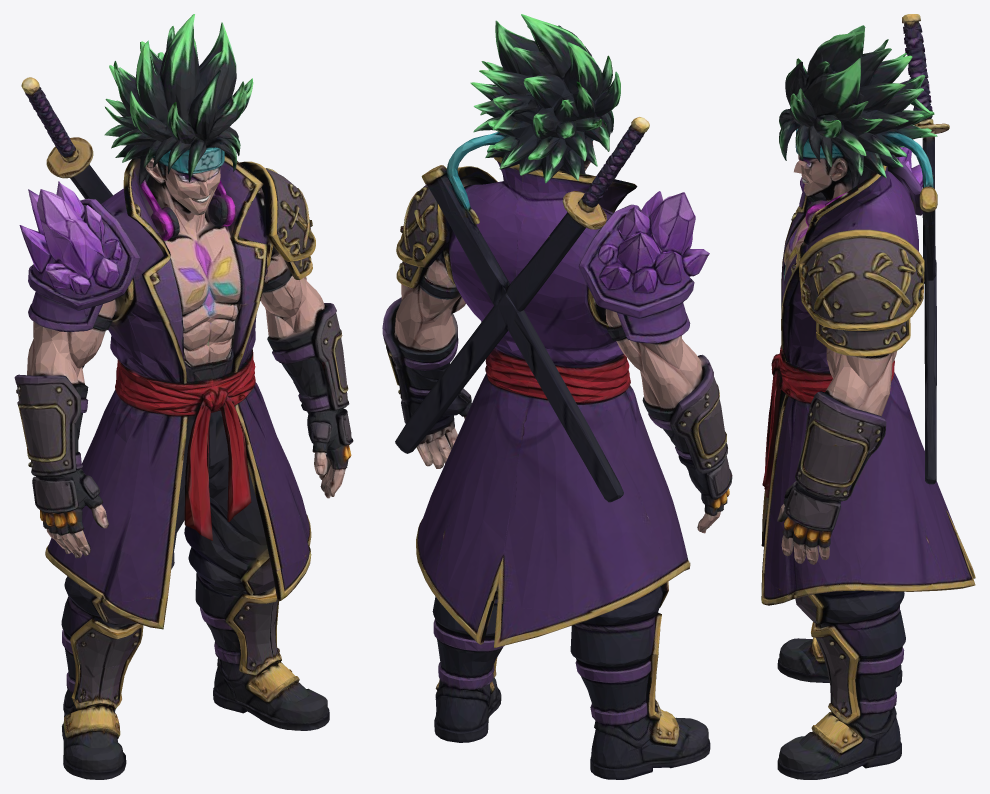
File: omni_game.glb
3 views of the same model, side by side, from view 1: azimuth 30°, elevation 25°; view 2: azimuth 150°, elevation 25°; view 3: azimuth 270°, elevation 25° (orthographic). The views are drawn at different scales.
Visible parts, largest first — view 1: world; view 2: world; view 3: world.
Boxes of the visible parts, x1,y1,x2,y2 form: world: (14,14,353,779); world: (382,14,732,779); world: (761,14,975,779).
Bounding box in the file's own units: 0.4657 × 0.9999 × 0.278.
Materials: 1 (1 with a texture image).
